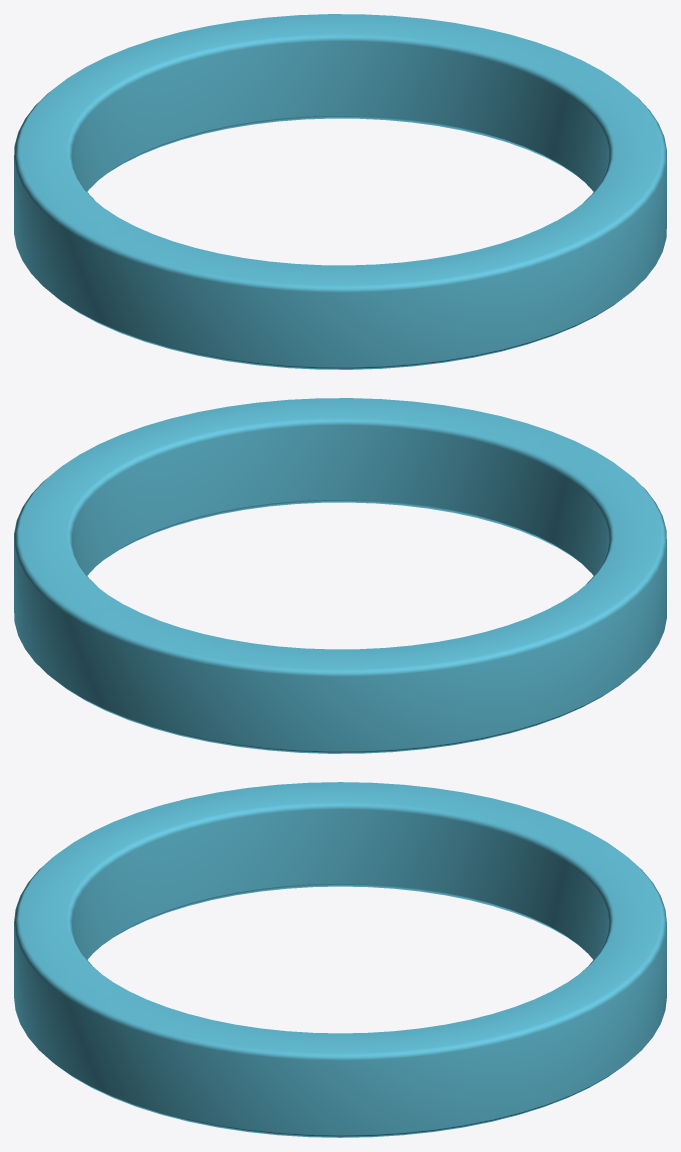
3 renders of one model, top to bottom at view 1: azimuth 30°, elevation 25°; view 2: azimuth 150°, elevation 25°; view 3: azimuth 270°, elevation 25°, orthographic.
Parts seen in each view (by area): view 1: seal_body; view 2: seal_body; view 3: seal_body.
Part boxes in pixels (x1,y1,x2,y2): seal_body: [14, 14, 666, 369]; seal_body: [14, 398, 666, 753]; seal_body: [14, 782, 666, 1137].
Size of the model in its own units: 0.0889 by 0.0127 by 0.0889.
